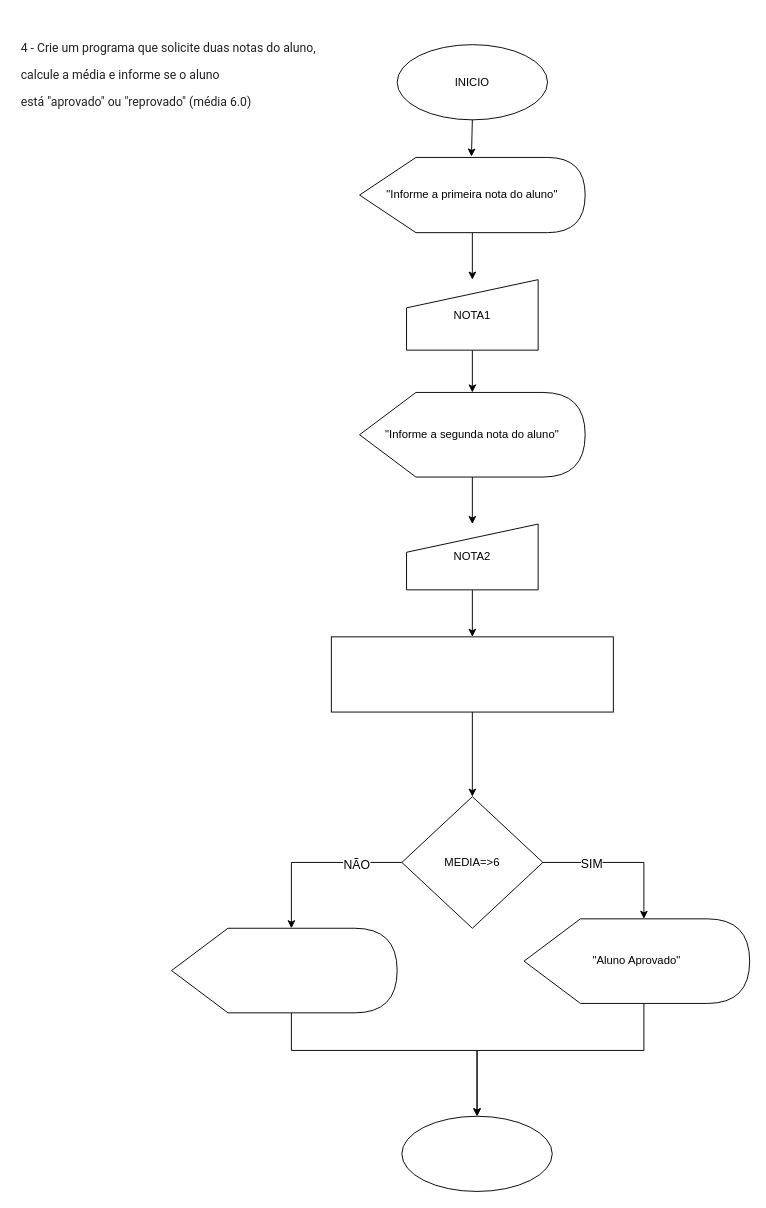
Image size: 766x1208. Some labels were removed from this diagram. Each missing label, with the box of its shape:
"Aluno Reprovado": (171, 927, 397, 1013)
FIM: (401, 1115, 552, 1191)
MEDIA = (NOTA1 +NOTA2)/2: (330, 636, 613, 712)
